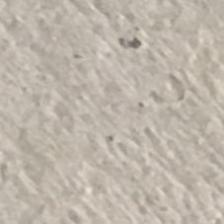Non_Crack: (10, 64, 224, 214)
